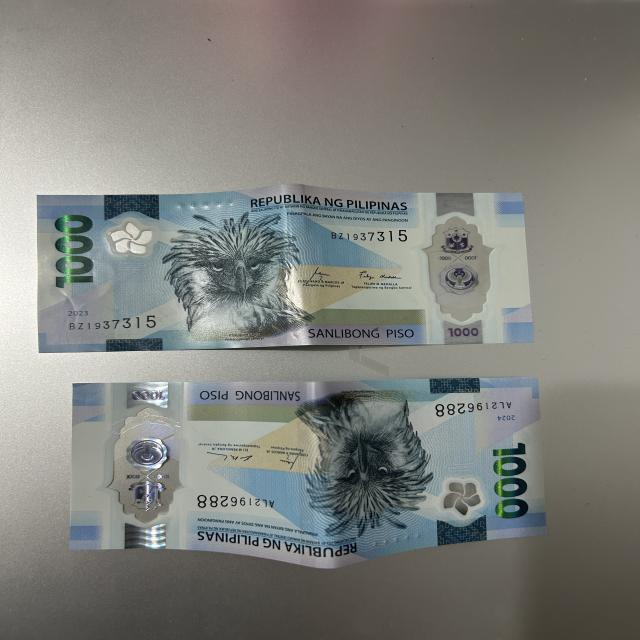clear_window: (419, 202, 506, 328), (104, 408, 188, 528)
eagle: (300, 397, 427, 540), (169, 216, 306, 334)
sampaguita: (435, 476, 489, 520), (105, 222, 155, 259)
